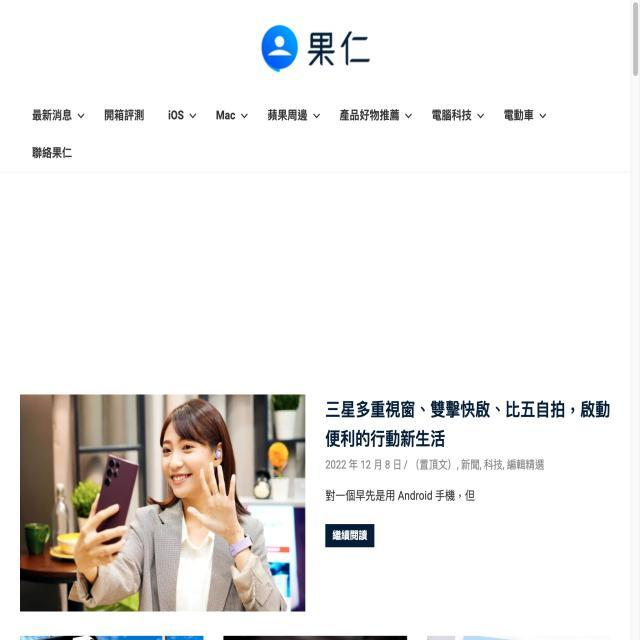image: (23, 392, 301, 609)
navigation bar: (0, 102, 578, 169)
